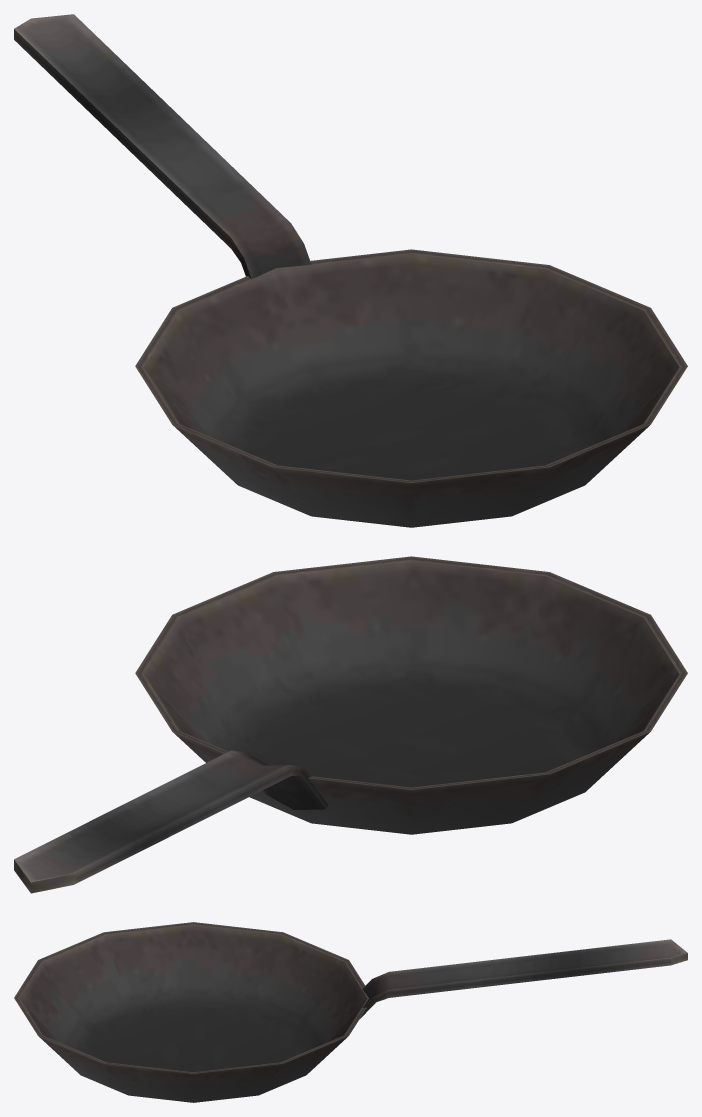
3 renders of one model, top to bottom at view 1: azimuth 30°, elevation 25°; view 2: azimuth 150°, elevation 25°; view 3: azimuth 270°, elevation 25°, orthographic. The views are drawn at different scales.
Parts seen in each view (by area): view 1: mesh_0_huraipan_model; view 2: mesh_0_huraipan_model; view 3: mesh_0_huraipan_model.
Boxes of the visible parts, x1,y1,x2,y2 form: mesh_0_huraipan_model: [14, 14, 687, 527]; mesh_0_huraipan_model: [14, 556, 687, 893]; mesh_0_huraipan_model: [14, 922, 687, 1102].
Size of the model in its own units: 0.7093 by 0.2307 by 1.33.
1 material, 1 textured.
